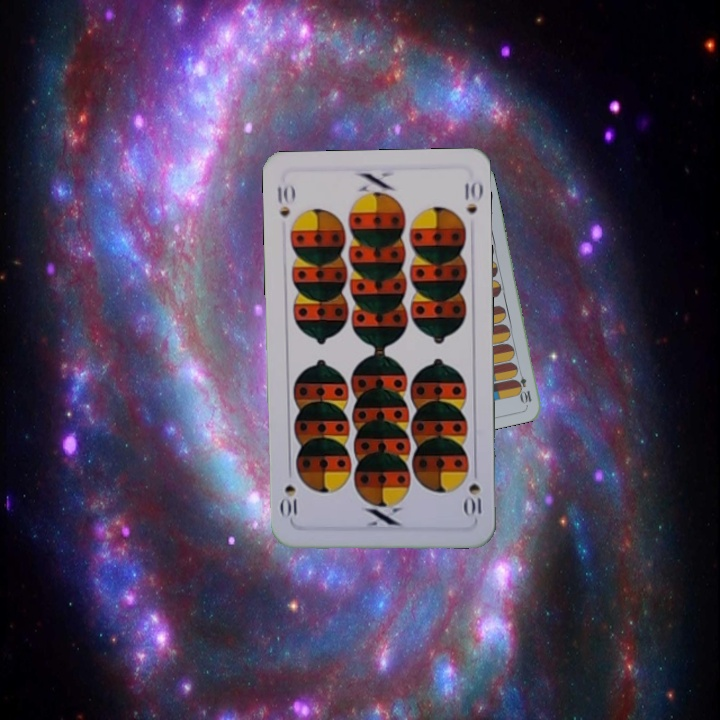E10: (513, 366, 534, 406)
S10: (461, 463, 485, 519), (273, 181, 297, 220)
